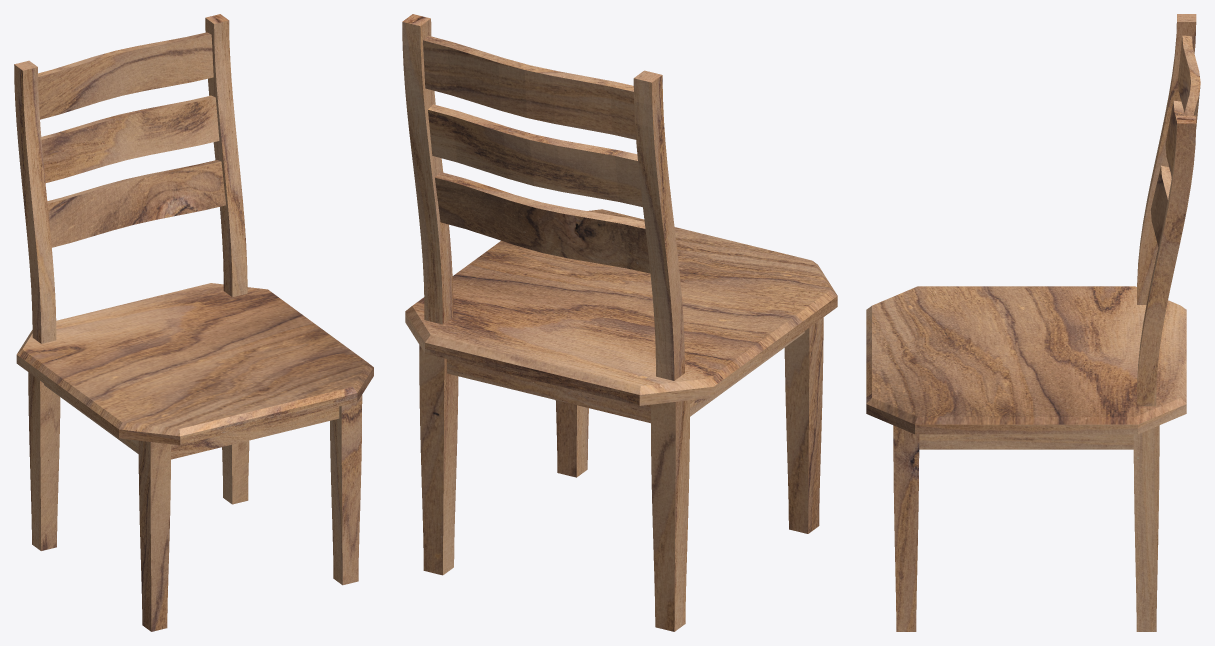
Rendered from chair.fbx.
3 views of the same model, side by side, from view 1: azimuth 30°, elevation 25°; view 2: azimuth 150°, elevation 25°; view 3: azimuth 270°, elevation 25° (orthographic). The views are drawn at different scales.
Parts seen in each view (by area): view 1: chair.006, chair.003, chair.004, chair.005, chair.002, chair.001, chair.010, chair.008, chair.009, chair.012, chair.007; view 2: chair.006, chair.005, chair.004, chair.003, chair.002, chair.009, chair.001, chair.007, chair.010, chair.013, chair.008; view 3: chair.006, chair.001, chair.007, chair.008, chair.014, chair.002, chair.005, chair.003, chair.004.
Part boxes in pixels (x1,y1,x2,y2): chair.006: (16, 283, 373, 445); chair.003: (47, 160, 225, 247); chair.004: (41, 95, 219, 182); chair.005: (38, 32, 213, 119); chair.002: (14, 60, 56, 343); chair.001: (205, 14, 247, 297); chair.010: (138, 440, 170, 631); chair.008: (330, 395, 362, 585); chair.009: (28, 372, 60, 550); chair.012: (171, 406, 339, 459); chair.007: (222, 440, 249, 504); chair.006: (405, 209, 837, 405); chair.005: (423, 35, 636, 139); chair.004: (428, 104, 642, 207); chair.003: (435, 172, 650, 273); chair.002: (633, 70, 684, 380); chair.009: (650, 400, 689, 631); chair.001: (402, 14, 453, 324); chair.007: (419, 345, 458, 575); chair.010: (784, 317, 823, 533); chair.013: (447, 359, 650, 423); chair.008: (555, 400, 588, 477); chair.006: (866, 286, 1186, 434); chair.001: (1137, 115, 1196, 406); chair.007: (1133, 425, 1159, 631); chair.008: (893, 425, 919, 631); chair.014: (919, 434, 1133, 449); chair.002: (1137, 14, 1196, 304); chair.005: (1178, 35, 1200, 128); chair.003: (1150, 165, 1171, 246); chair.004: (1165, 100, 1183, 176).
Size of the model in its own units: 400 by 700 by 418.
Materials: 1 (1 with a texture image).
